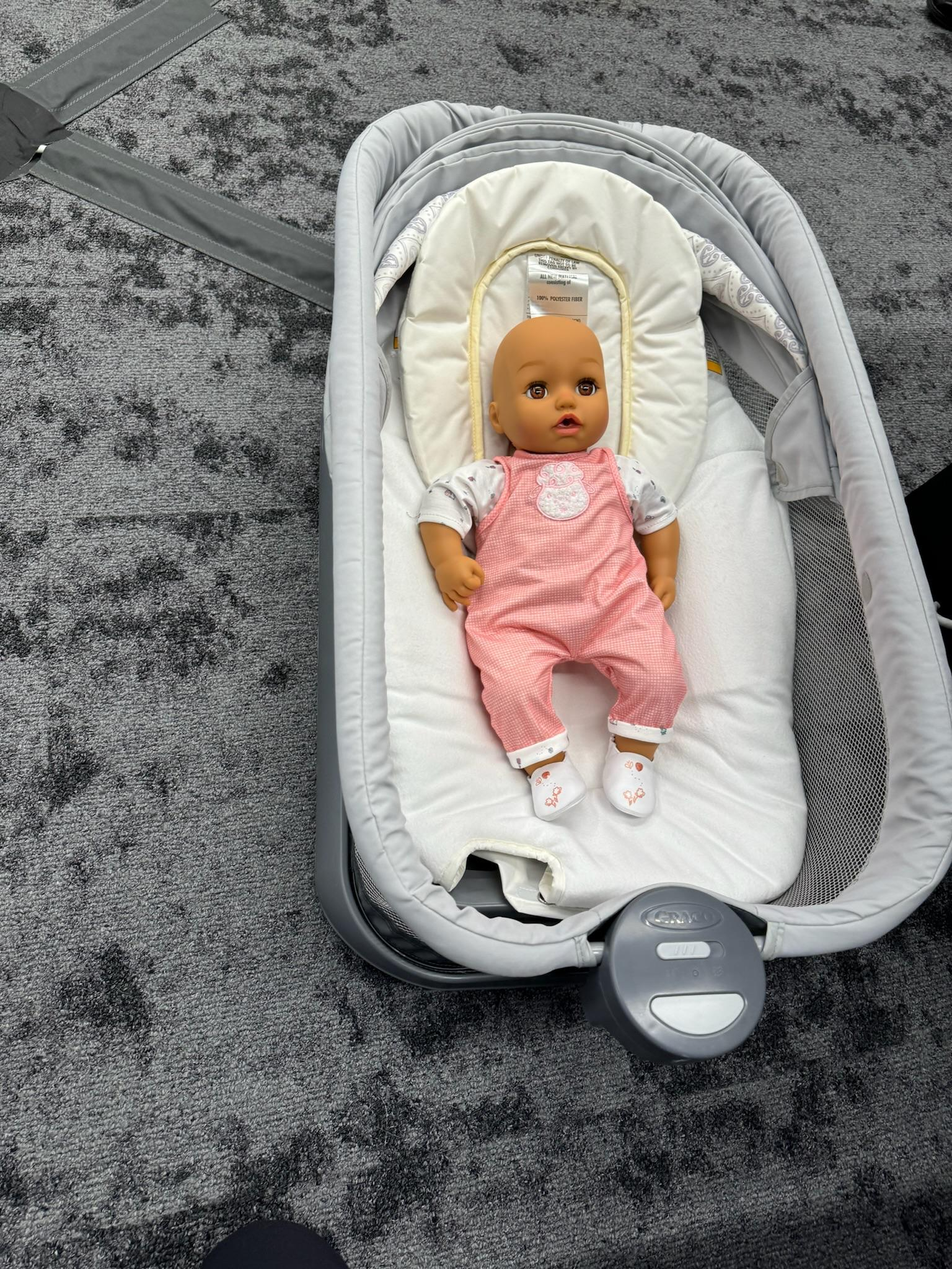baby: (414, 311, 692, 824)
